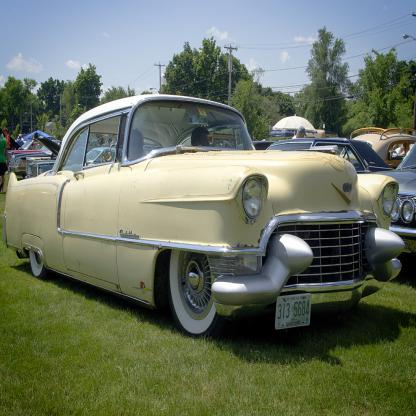Car: (3, 95, 404, 336), (237, 126, 415, 254), (7, 131, 123, 179)
